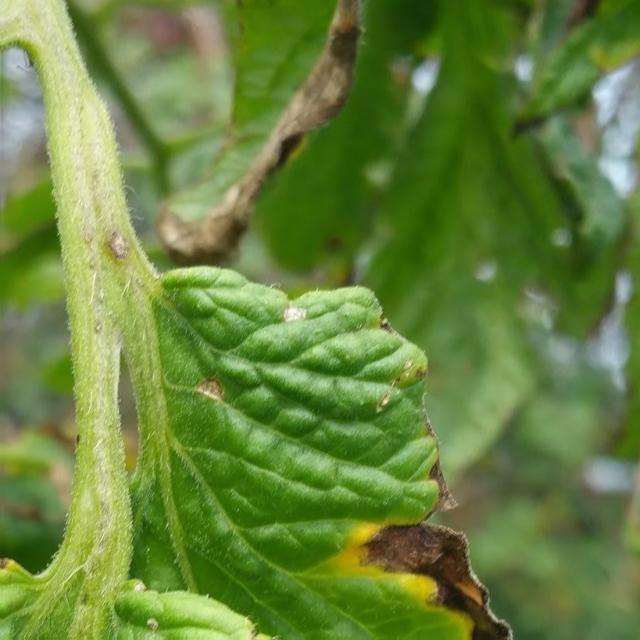Tomato leaf bacterial spot: (77, 245, 563, 640), (0, 518, 401, 640)
